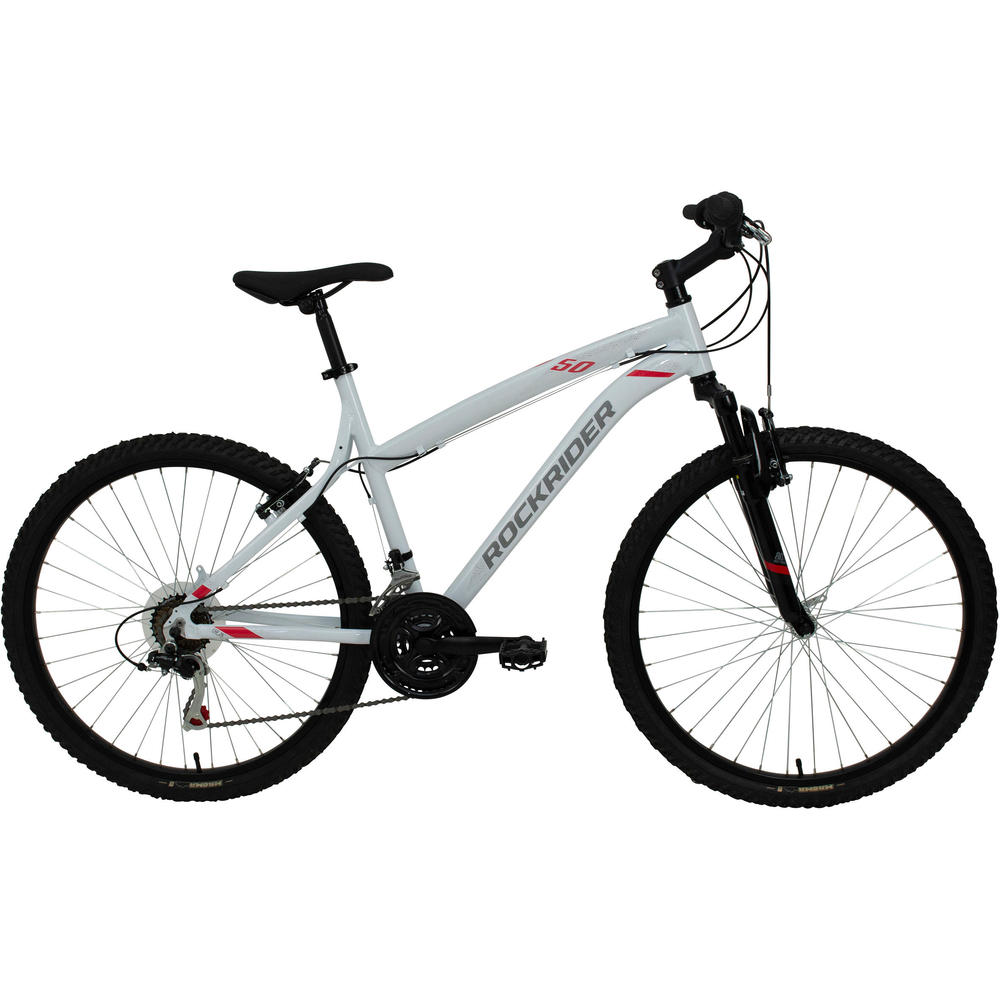RoadBike: (622, 511, 779, 797), (358, 489, 449, 626), (475, 496, 547, 649)
